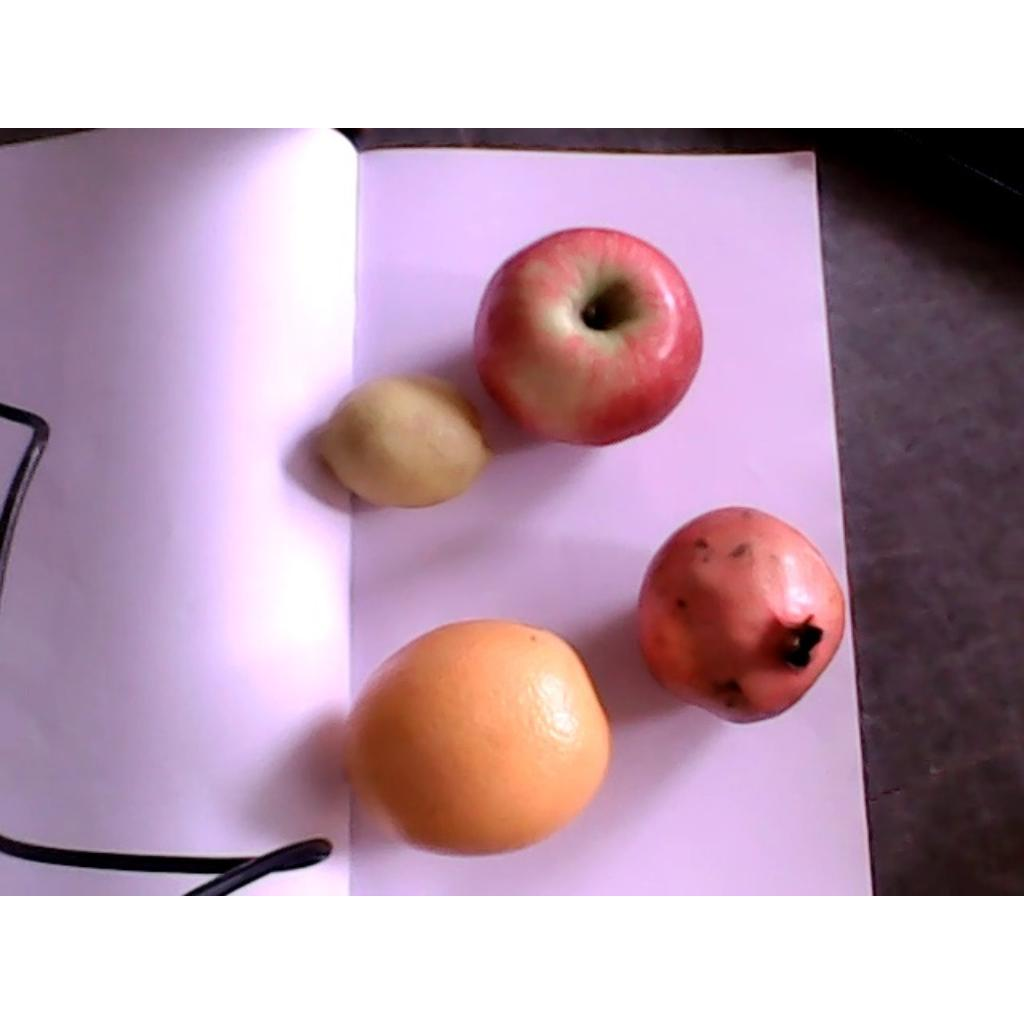apple: (474, 228, 703, 447)
lemon: (316, 373, 500, 507)
orange: (343, 623, 611, 854)
pomegranate: (634, 508, 846, 722)
